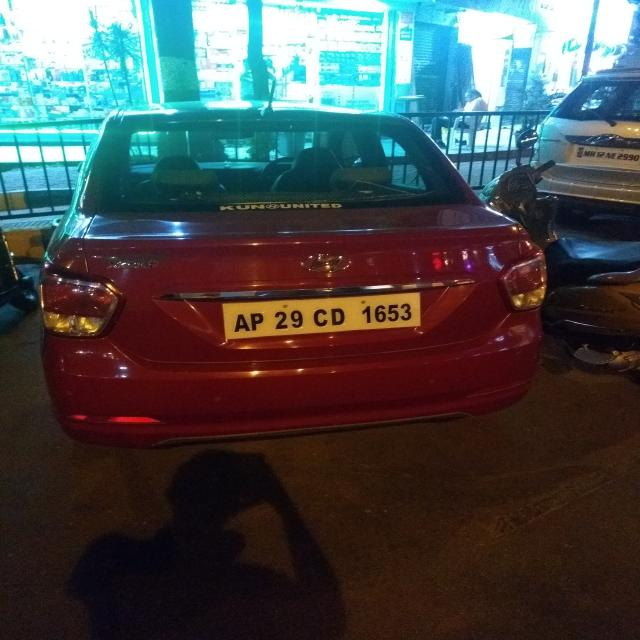Number-Plate: (221, 292, 423, 335)
